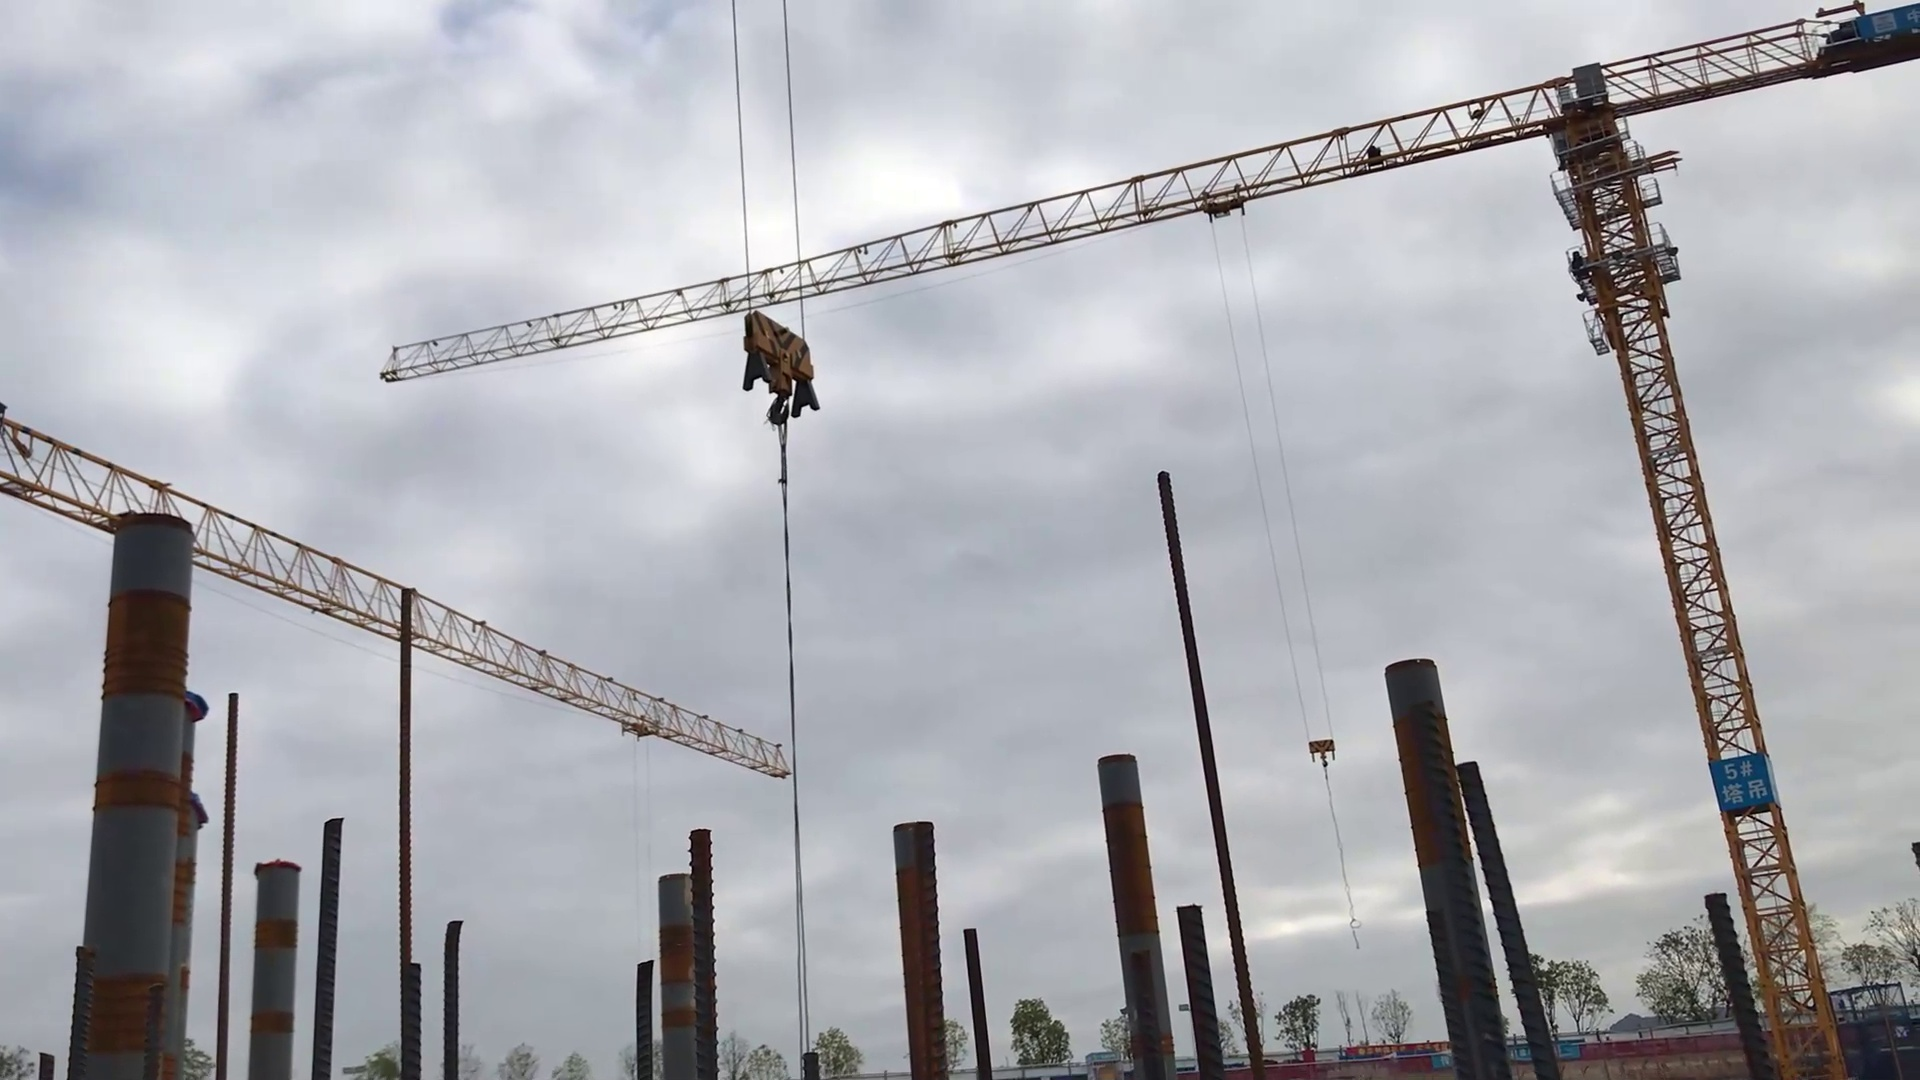hook: (737, 313, 827, 429)
